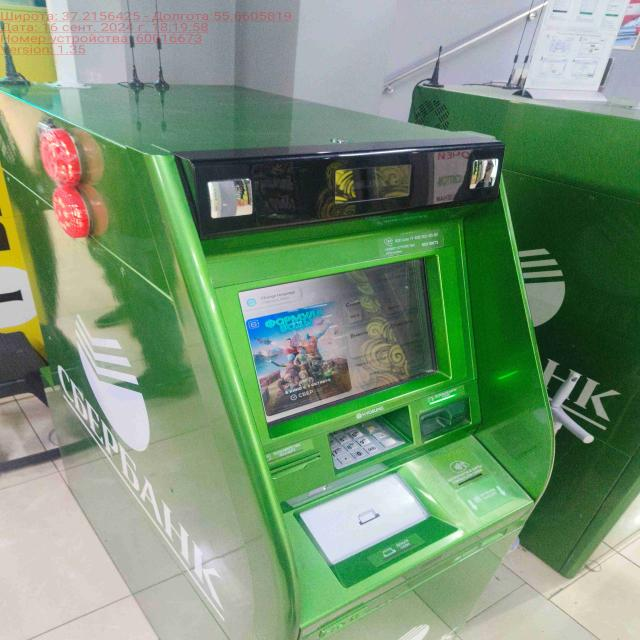bank: (0, 81, 557, 640), (418, 86, 640, 579)
